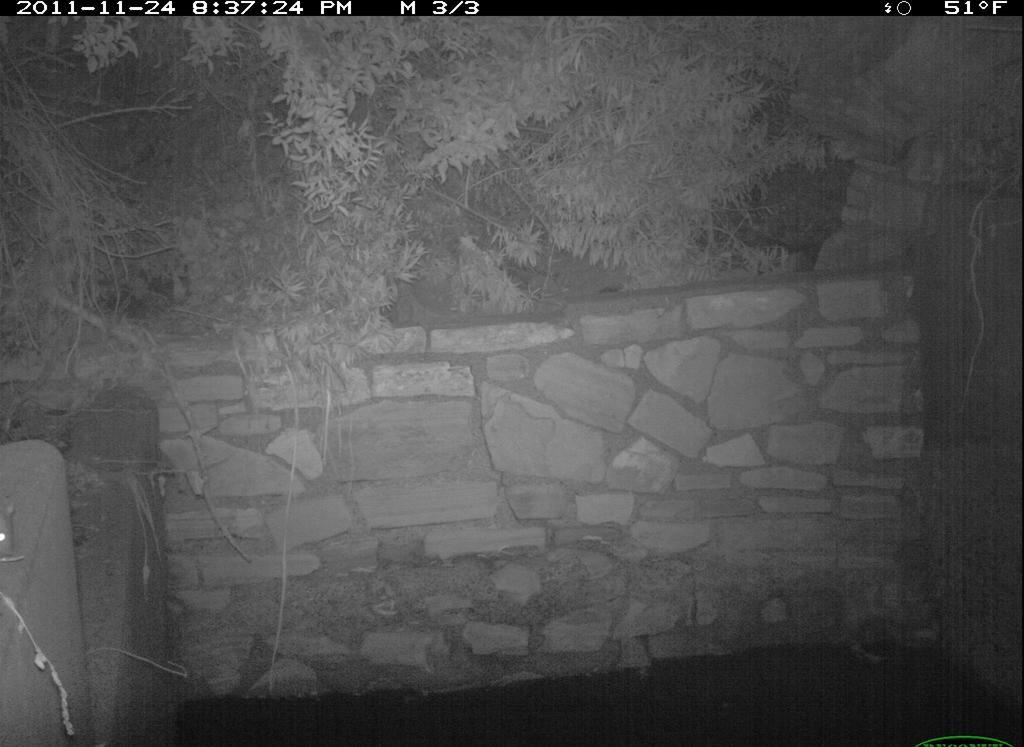rodent: (3, 484, 24, 574)
